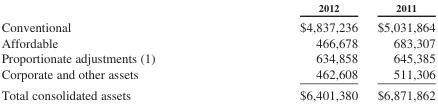table: (0, 1, 434, 101)
table column: (0, 1, 226, 101), (226, 1, 366, 101), (366, 1, 434, 101)
table column header: (0, 1, 434, 16)
table row: (0, 16, 434, 34), (0, 65, 434, 83), (0, 83, 434, 101), (0, 34, 434, 50), (0, 1, 434, 16), (0, 50, 434, 65)
